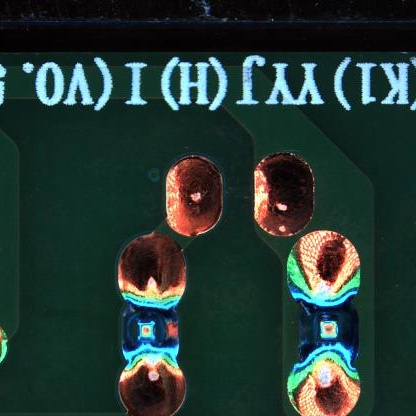spot: (298, 306, 359, 357), (120, 299, 177, 352)
